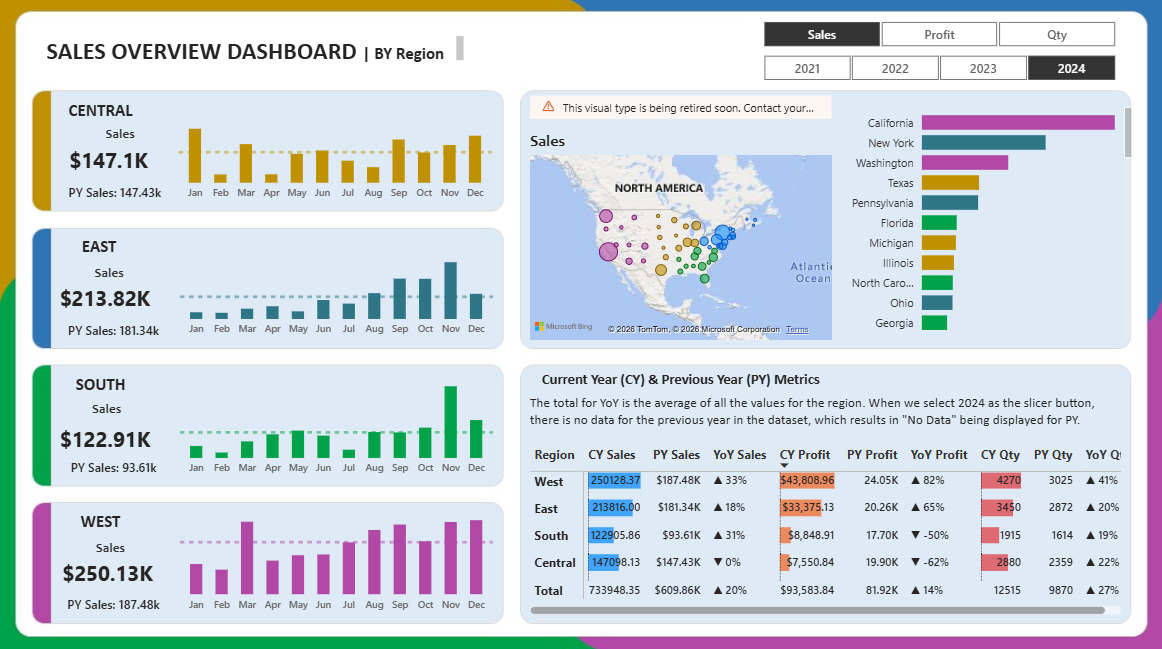

The dashboard page shown, as its layout file describes it:
{"tool":"powerbi","page":{"name":"Page 1","canvas":[1280,720],"ordinal":0},"visuals":[{"type":"slicer","fields":{"Values":["Select Metric.Select Metric"]},"box":[815.1,19.2,435,37],"z":0},{"type":"card","fields":{"Values":["Sales Data.Total Sales"]},"box":[64.3,161.9,114,35.7],"z":1000},{"type":"textbox","box":[64.5,107,96.1,35.7],"z":2000},{"type":"slicer","fields":{"Values":["Calendar Table.Year"]},"box":[815.1,56.3,435,38.4],"z":3000},{"type":"card","fields":{"Values":["Sales Data.Dynamic Title"]},"box":[74.8,136,117.8,25.9],"z":4000},{"type":"card","fields":{"Values":["Sales Data.Py KPI Sales"]},"box":[64.3,197.6,128.3,36.7],"z":5000},{"type":"clusteredColumnChart","fields":{"Y":["Sales Data.Total Sales"],"Category":["Calendar Table.Month"]},"box":[192.9,107.1,353.8,123.9],"z":6000},{"type":"textbox","box":[33.8,36.6,481.7,39.4],"z":7000},{"type":"clusteredColumnChart","fields":{"Y":["Sales Data.Total Sales"],"Category":["Calendar Table.Month"]},"box":[194.4,256.3,353.5,123.9],"z":8000},{"type":"card","fields":{"Values":["Sales Data.Dynamic Title"]},"box":[60.3,437.4,118.3,25.3],"z":9000},{"type":"card","fields":{"Values":["Sales Data.Total Sales"]},"box":[60.5,313.5,114.2,35.1],"z":10000},{"type":"card","fields":{"Values":["Sales Data.Py KPI Sales"]},"box":[63.5,348.6,128,36.8],"z":11000},{"type":"textbox","box":[63.5,256.4,95.9,35.8],"z":12000},{"type":"textbox","box":[64.6,408.2,96.1,35.8],"z":13000},{"type":"card","fields":{"Values":["Sales Data.Dynamic Title"]},"box":[63.4,288.3,118.3,25.3],"z":14000},{"type":"card","fields":{"Values":["Sales Data.Total Sales"]},"box":[60.3,468.1,114.4,35.4],"z":15000},{"type":"card","fields":{"Values":["Sales Data.Py KPI Sales"]},"box":[63.4,498.8,128,36.6],"z":16000},{"type":"textbox","box":[64.6,558.4,96.1,35.8],"z":17000},{"type":"card","fields":{"Values":["Sales Data.Dynamic Title"]},"box":[64.6,589.9,118.3,25.3],"z":18000},{"type":"card","fields":{"Values":["Sales Data.Total Sales"]},"box":[63.4,615.2,114.4,35.4],"z":19000},{"type":"card","fields":{"Values":["Sales Data.Py KPI Sales"]},"box":[63.4,650.6,128,36.6],"z":20000},{"type":"clusteredColumnChart","fields":{"Y":["Sales Data.Total Sales"],"Category":["Calendar Table.Month"]},"box":[194.7,408.4,353.7,124.2],"z":21000},{"type":"clusteredColumnChart","fields":{"Y":["Sales Data.Total Sales"],"Category":["Calendar Table.Month"]},"box":[194.7,557.9,353.7,124.2],"z":22000},{"type":"map","fields":{"Size":["Sales Data.Total Sales"],"Category":["Sales Data.State/Province"],"Series":["Sales Data.Region"]},"box":[578.9,107,340.8,273.2],"z":23000},{"type":"barChart","fields":{"Y":["Sales Data.Total Sales"],"Category":["Sales Data.State/Province"],"Series":["Sales Data.Region"]},"box":[920,107,330,273],"z":24000},{"type":"pivotTable","fields":{"Rows":["Sales Data.Region"],"Values":["Sales Data.CY Sales","Sales Data.PY Sales","Sales Data.YoY Sales","Sales Data.CY Profit","Sales Data.PY Profit","Sales Data.YoY Profit","Sales Data.CY Qty","Sales Data.PY Qty","Sales Data.YoY Qty"]},"box":[579,485.7,658.8,196],"z":25000},{"type":"textbox","box":[578.9,402.8,340.8,35.2],"z":26000},{"type":"textbox","box":[579,429.4,658.8,48.5],"z":27000}]}

Visuals, with their boxes in screenshot pixels (x1, y1, x2, y2), scaled from the page's 1280x720 canvas onto the 1162x649 screenshot:
slicer - Select Metric.Select Metric: {"x1": 740, "y1": 17, "x2": 1135, "y2": 51}
card - Sales Data.Total Sales: {"x1": 58, "y1": 146, "x2": 162, "y2": 178}
textbox: {"x1": 59, "y1": 96, "x2": 146, "y2": 129}
slicer - Calendar Table.Year: {"x1": 740, "y1": 51, "x2": 1135, "y2": 85}
card - Sales Data.Dynamic Title: {"x1": 68, "y1": 123, "x2": 175, "y2": 146}
card - Sales Data.Py KPI Sales: {"x1": 58, "y1": 178, "x2": 175, "y2": 211}
clusteredColumnChart - Sales Data.Total Sales x Calendar Table.Month: {"x1": 175, "y1": 97, "x2": 496, "y2": 208}
textbox: {"x1": 31, "y1": 33, "x2": 468, "y2": 69}
clusteredColumnChart - Sales Data.Total Sales x Calendar Table.Month: {"x1": 176, "y1": 231, "x2": 497, "y2": 343}
card - Sales Data.Dynamic Title: {"x1": 55, "y1": 394, "x2": 162, "y2": 417}
card - Sales Data.Total Sales: {"x1": 55, "y1": 283, "x2": 159, "y2": 314}
card - Sales Data.Py KPI Sales: {"x1": 58, "y1": 314, "x2": 174, "y2": 347}
textbox: {"x1": 58, "y1": 231, "x2": 145, "y2": 263}
textbox: {"x1": 59, "y1": 368, "x2": 146, "y2": 400}
card - Sales Data.Dynamic Title: {"x1": 58, "y1": 260, "x2": 165, "y2": 283}
card - Sales Data.Total Sales: {"x1": 55, "y1": 422, "x2": 159, "y2": 454}
card - Sales Data.Py KPI Sales: {"x1": 58, "y1": 450, "x2": 174, "y2": 483}
textbox: {"x1": 59, "y1": 503, "x2": 146, "y2": 536}
card - Sales Data.Dynamic Title: {"x1": 59, "y1": 532, "x2": 166, "y2": 555}
card - Sales Data.Total Sales: {"x1": 58, "y1": 555, "x2": 161, "y2": 586}
card - Sales Data.Py KPI Sales: {"x1": 58, "y1": 586, "x2": 174, "y2": 619}
clusteredColumnChart - Sales Data.Total Sales x Calendar Table.Month: {"x1": 177, "y1": 368, "x2": 498, "y2": 480}
clusteredColumnChart - Sales Data.Total Sales x Calendar Table.Month: {"x1": 177, "y1": 503, "x2": 498, "y2": 615}
map - Sales Data.Total Sales x Sales Data.State/Province: {"x1": 526, "y1": 96, "x2": 835, "y2": 343}
barChart - Sales Data.Total Sales x Sales Data.State/Province: {"x1": 835, "y1": 96, "x2": 1135, "y2": 343}
pivotTable - Sales Data.Region x Sales Data.CY Sales: {"x1": 526, "y1": 438, "x2": 1124, "y2": 614}
textbox: {"x1": 526, "y1": 363, "x2": 835, "y2": 395}
textbox: {"x1": 526, "y1": 387, "x2": 1124, "y2": 431}
